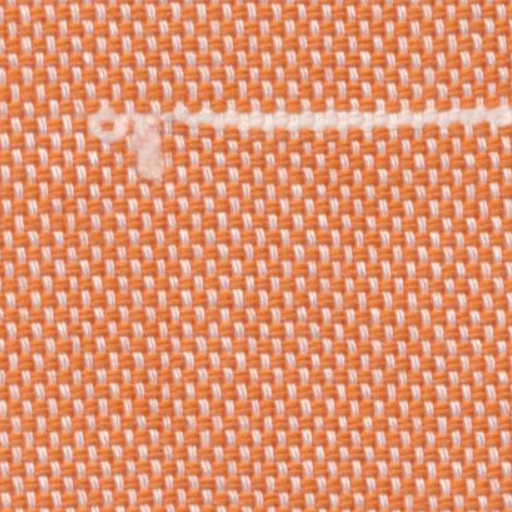DuanSha: (58, 87, 197, 198)
